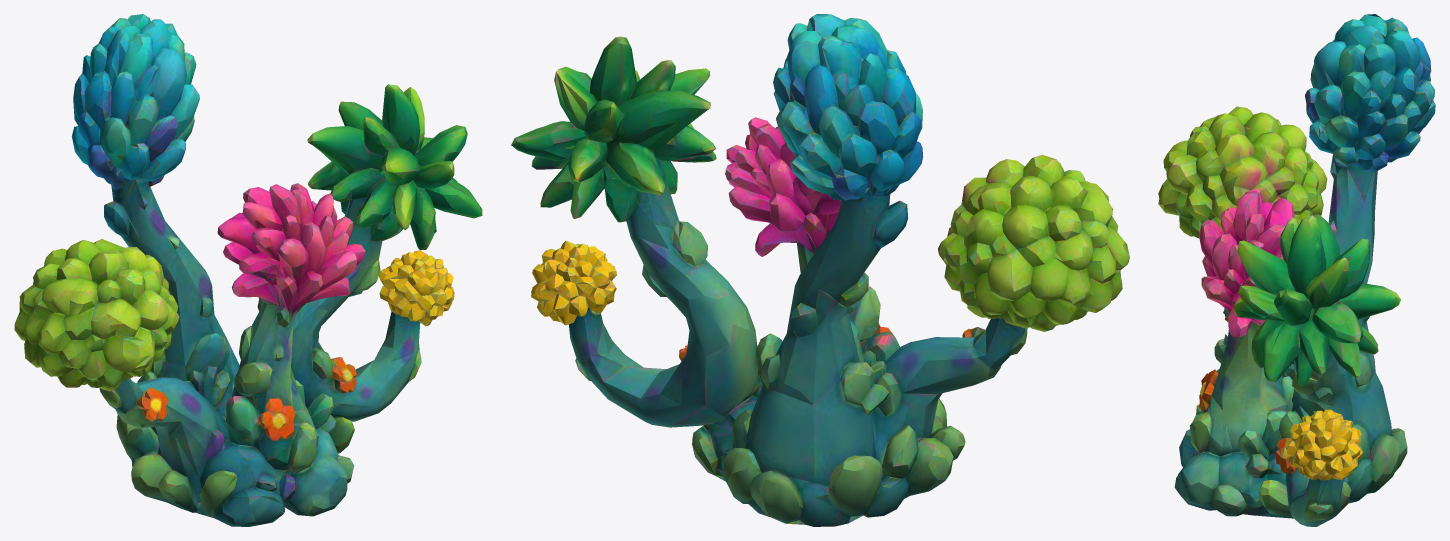
The model's file is whimsy-bloom-coral.glb.
3 renders of one model, left to right at view 1: azimuth 30°, elevation 25°; view 2: azimuth 150°, elevation 25°; view 3: azimuth 270°, elevation 25°, orthographic. The views are drawn at different scales.
Visible parts, largest first — view 1: output_unwrapped; view 2: output_unwrapped; view 3: output_unwrapped.
Part boxes in pixels (x1=…): output_unwrapped: x1=14, y1=14, x2=482, y2=526; output_unwrapped: x1=511, y1=14, x2=1129, y2=526; output_unwrapped: x1=1158, y1=14, x2=1435, y2=526.
Bounding box in the file's own units: 1.9 × 1.71 × 0.9862.
1 material, 1 textured.
